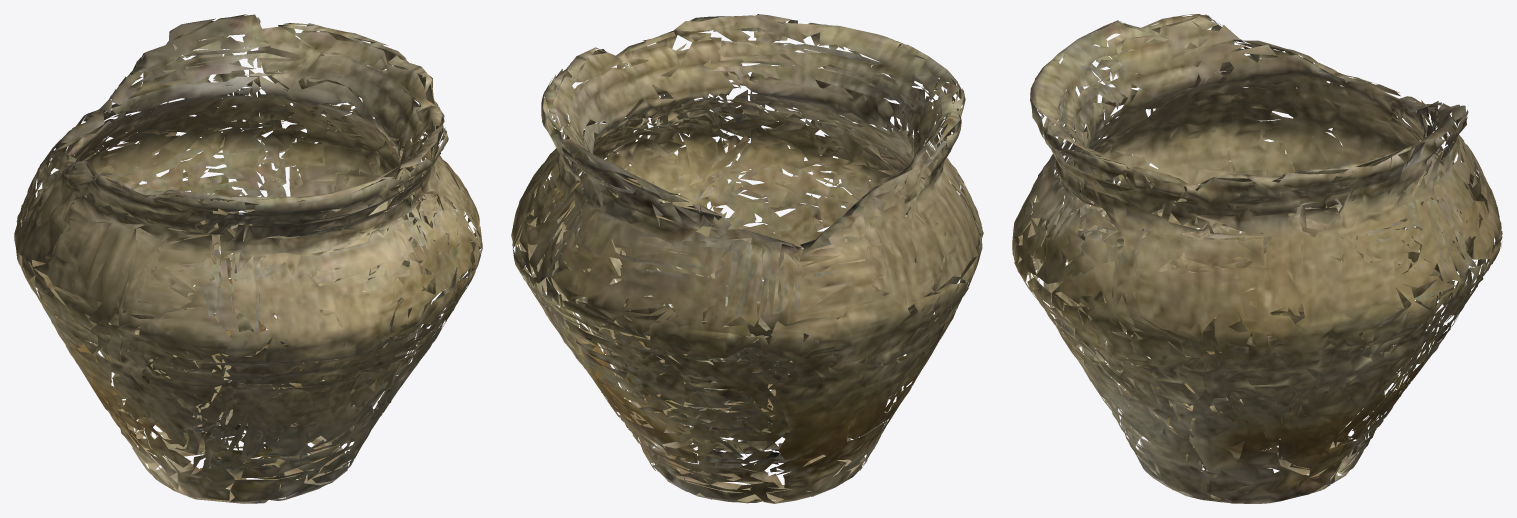
File: hm-incised-groove-food-vessel.glb
3 views of the same model, side by side, from view 1: azimuth 30°, elevation 25°; view 2: azimuth 150°, elevation 25°; view 3: azimuth 270°, elevation 25° (orthographic). The views are drawn at different scales.
Parts seen in each view (by area): view 1: Object_5, Object_4, Object_2, Object_3, Object_6, Object_7, Object_8; view 2: Object_2, Object_3, Object_5, Object_4, Object_6, Object_7, Object_8; view 3: Object_3, Object_5, Object_2, Object_4, Object_6, Object_7, Object_8.
Part boxes in pixels (bbox=[...]): Object_5: bbox=[33, 14, 480, 491]; Object_4: bbox=[30, 21, 482, 501]; Object_2: bbox=[14, 17, 481, 500]; Object_3: bbox=[20, 18, 482, 503]; Object_6: bbox=[19, 14, 481, 483]; Object_7: bbox=[22, 32, 474, 499]; Object_8: bbox=[20, 23, 472, 499]; Object_2: bbox=[513, 15, 981, 490]; Object_3: bbox=[511, 22, 982, 502]; Object_5: bbox=[515, 20, 983, 503]; Object_4: bbox=[512, 14, 977, 490]; Object_6: bbox=[512, 30, 981, 503]; Object_7: bbox=[513, 14, 981, 503]; Object_8: bbox=[522, 31, 975, 489]; Object_3: bbox=[1014, 14, 1502, 477]; Object_5: bbox=[1012, 16, 1501, 488]; Object_2: bbox=[1028, 15, 1501, 503]; Object_4: bbox=[1013, 23, 1489, 503]; Object_6: bbox=[1032, 25, 1498, 500]; Object_7: bbox=[1026, 14, 1502, 503]; Object_8: bbox=[1015, 22, 1502, 499].
Bounding box in the file's own units: 0.153 × 0.1296 × 0.1527.
Materials: 1 (1 with a texture image).
